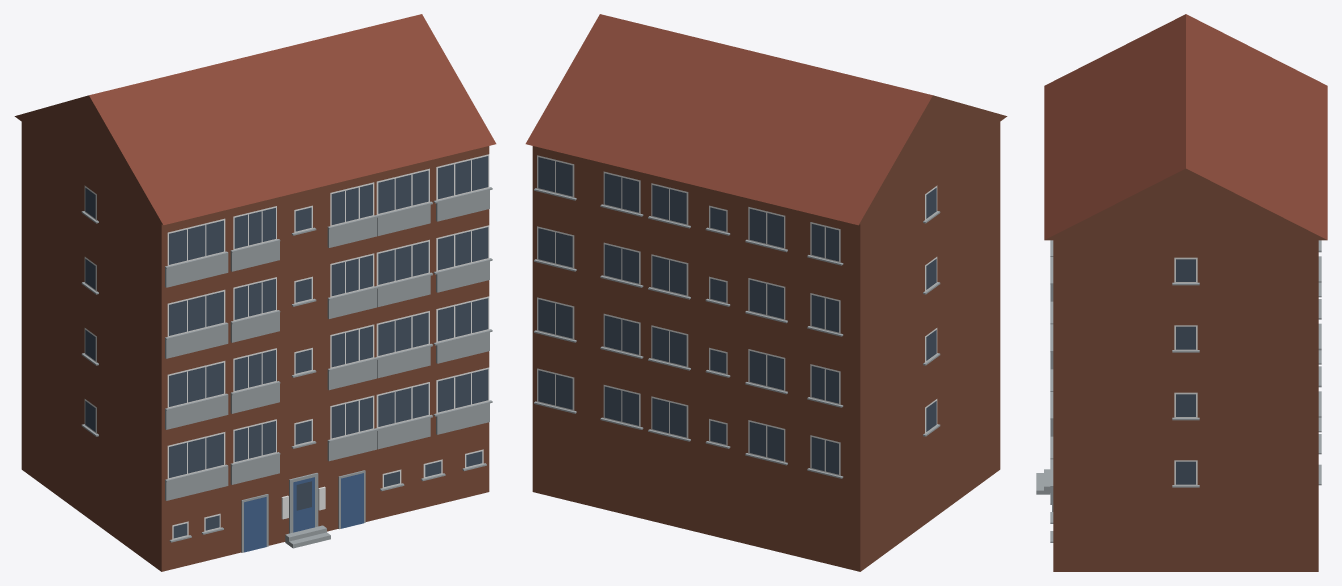
Rendered from nw-portiek-brick-pitched__clad-panel__5__gable__long__solid.glb.
3 views of the same model, side by side, from view 1: azimuth 30°, elevation 25°; view 2: azimuth 150°, elevation 25°; view 3: azimuth 270°, elevation 25° (orthographic). The views are drawn at different scales.
Visible parts, largest first — view 1: nw-portiek-brick-pitched__clad-panel__5__gable__long__solid; view 2: nw-portiek-brick-pitched__clad-panel__5__gable__long__solid; view 3: nw-portiek-brick-pitched__clad-panel__5__gable__long__solid.
Part boxes in pixels (x1,y1,x2,y2): nw-portiek-brick-pitched__clad-panel__5__gable__long__solid: (14, 14, 496, 571); nw-portiek-brick-pitched__clad-panel__5__gable__long__solid: (525, 14, 1007, 571); nw-portiek-brick-pitched__clad-panel__5__gable__long__solid: (1036, 14, 1327, 571).
Size of the model in its own units: 14.55 by 17.79 by 11.6.
